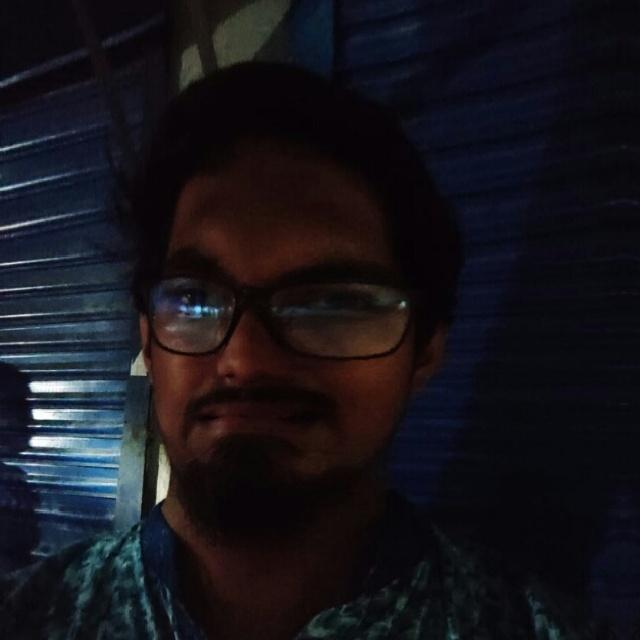Disgust: (106, 85, 465, 540)
